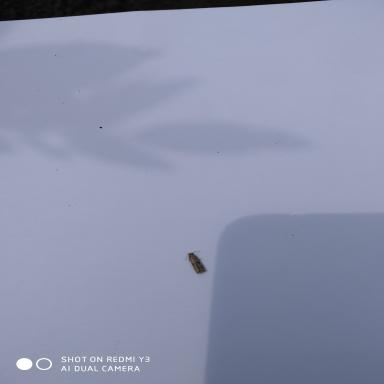pbw: (178, 250, 208, 274)
